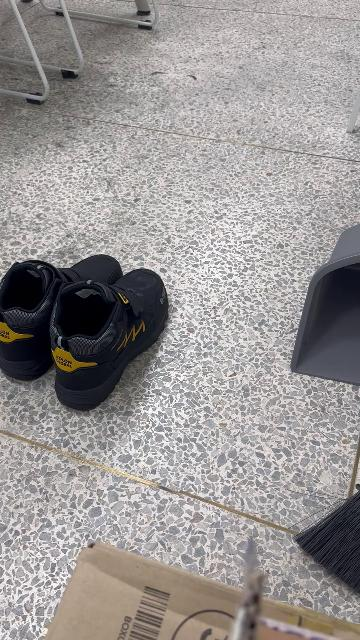shoe_worn: (56, 268, 169, 411), (1, 251, 119, 377)
